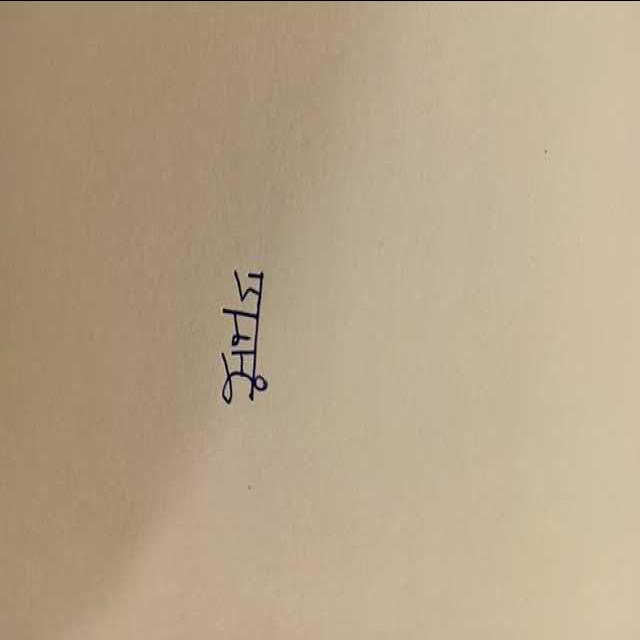signature: (196, 234, 294, 420)
